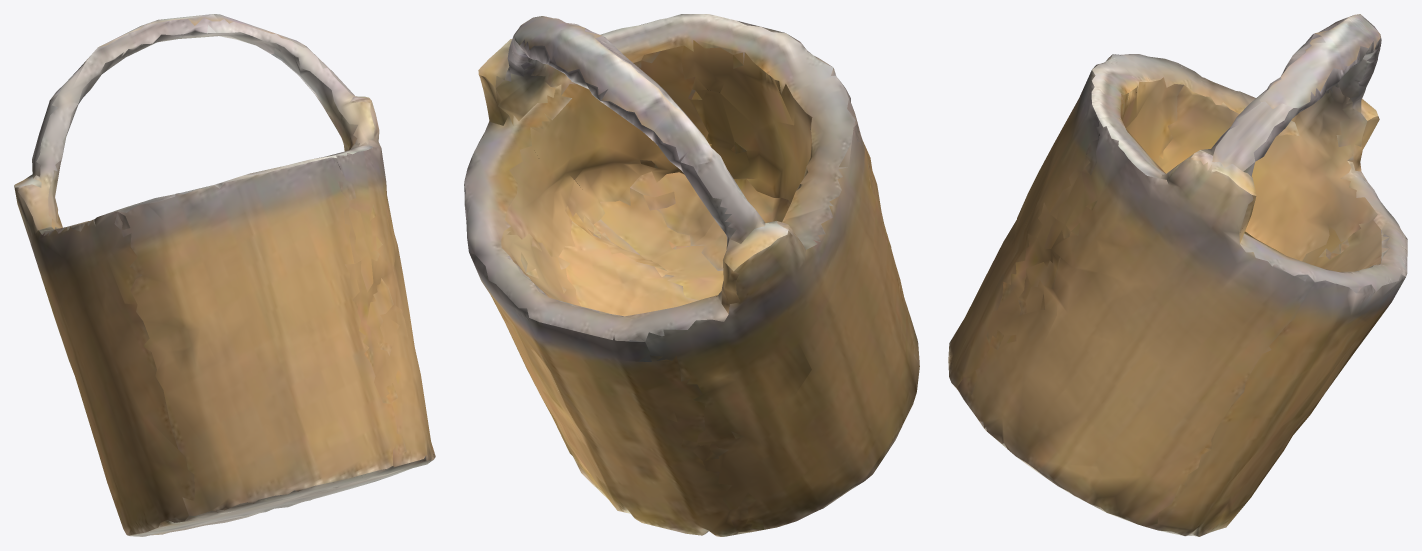
Rendered from bucket_cozy.glb.
3 views of the same model, side by side, from view 1: azimuth 30°, elevation 25°; view 2: azimuth 150°, elevation 25°; view 3: azimuth 270°, elevation 25° (orthographic). The views are drawn at different scales.
Visible parts, largest first — view 1: geometry_0; view 2: geometry_0; view 3: geometry_0.
Part boxes in pixels (x1,y1,x2,y2): geometry_0: (14,14,435,536); geometry_0: (464,14,919,536); geometry_0: (948,14,1407,536).
Bounding box in the file's own units: 0.6113 × 0.867 × 0.7428.
Materials: 1 (1 with a texture image).
